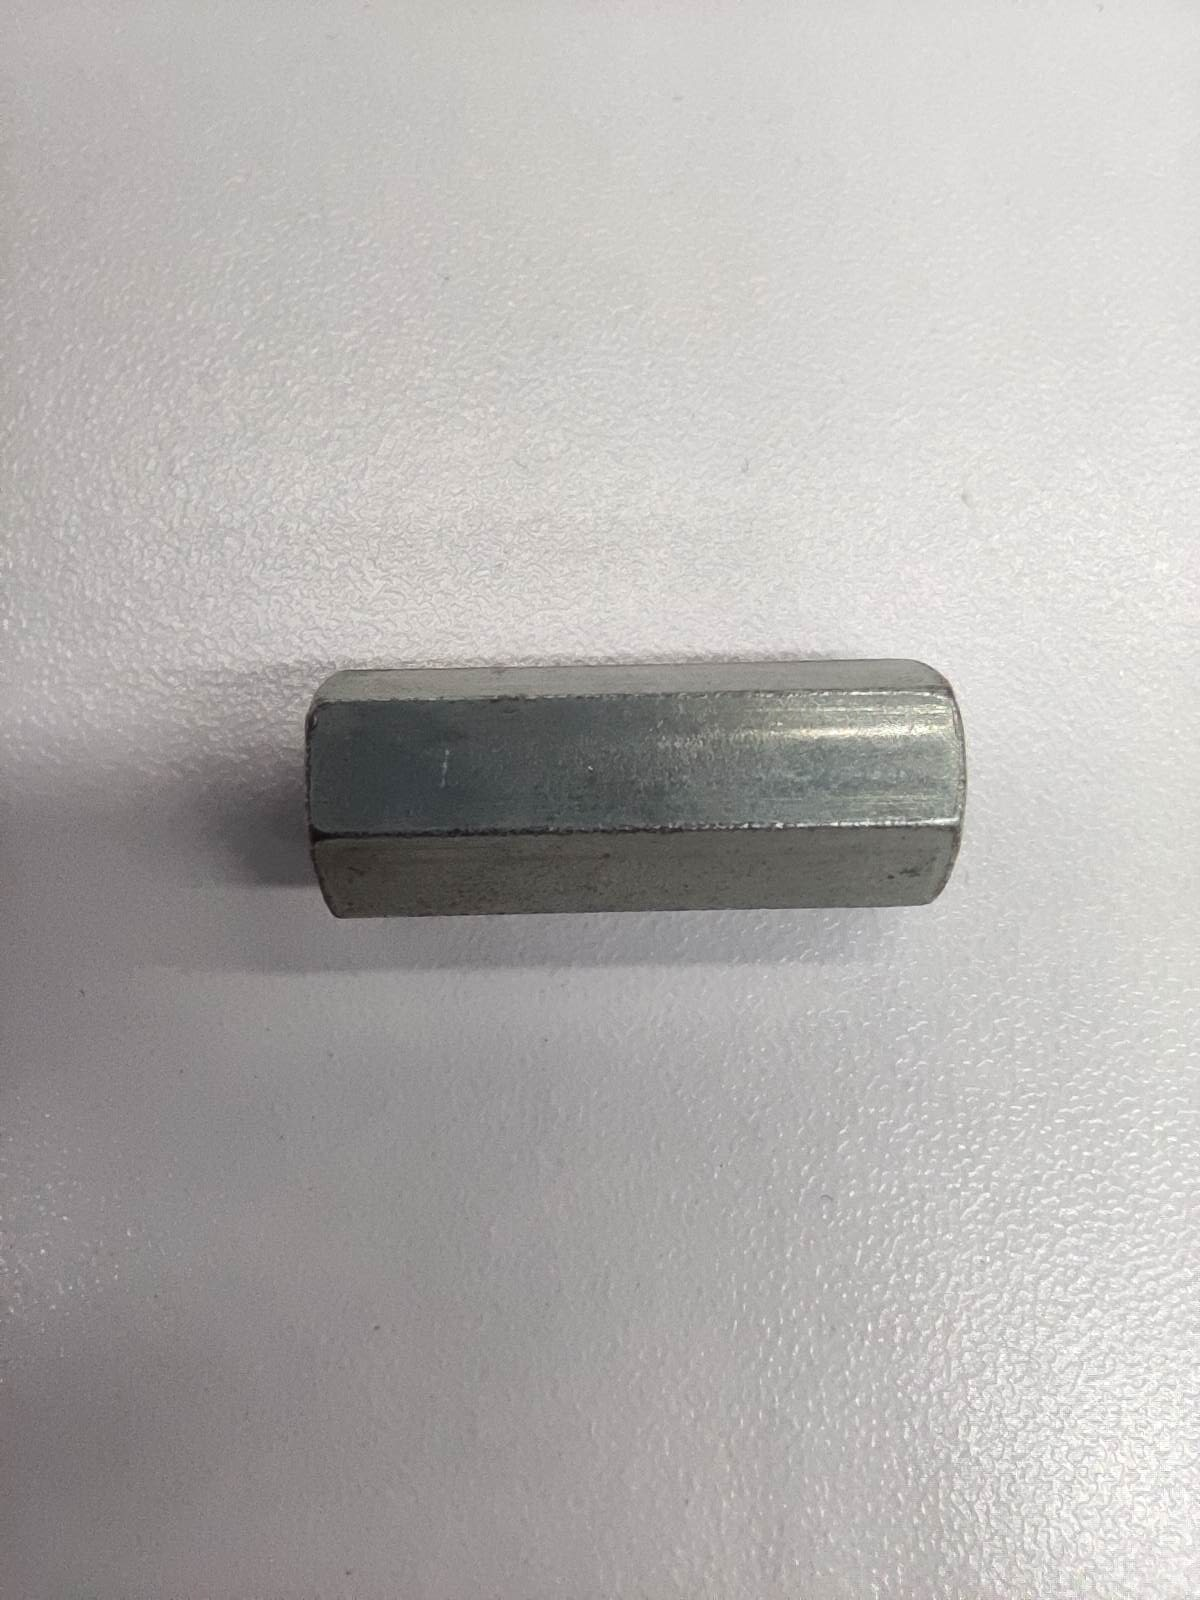吊丝接头: (303, 656, 969, 921)
